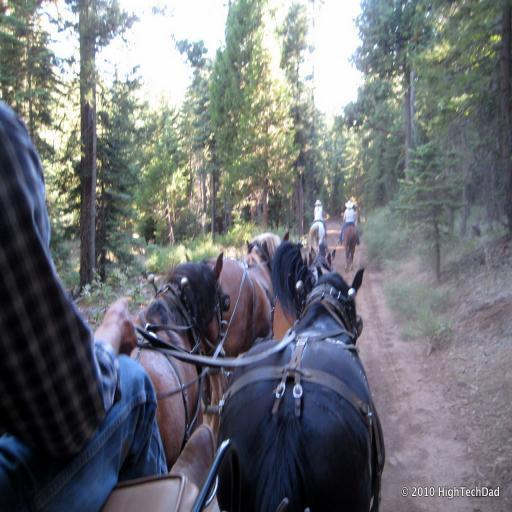horse: (212, 266, 386, 512), (129, 248, 233, 464), (206, 230, 292, 374), (273, 242, 337, 342), (338, 220, 359, 270), (308, 218, 328, 252)
